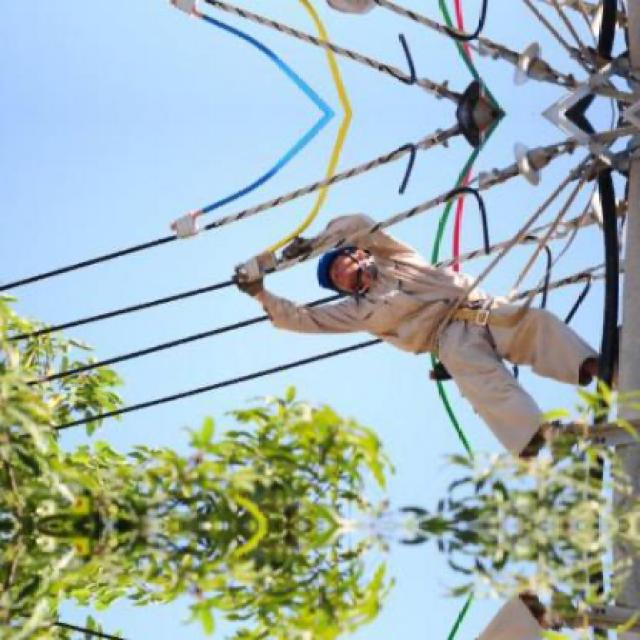helmet: (312, 236, 372, 299)
